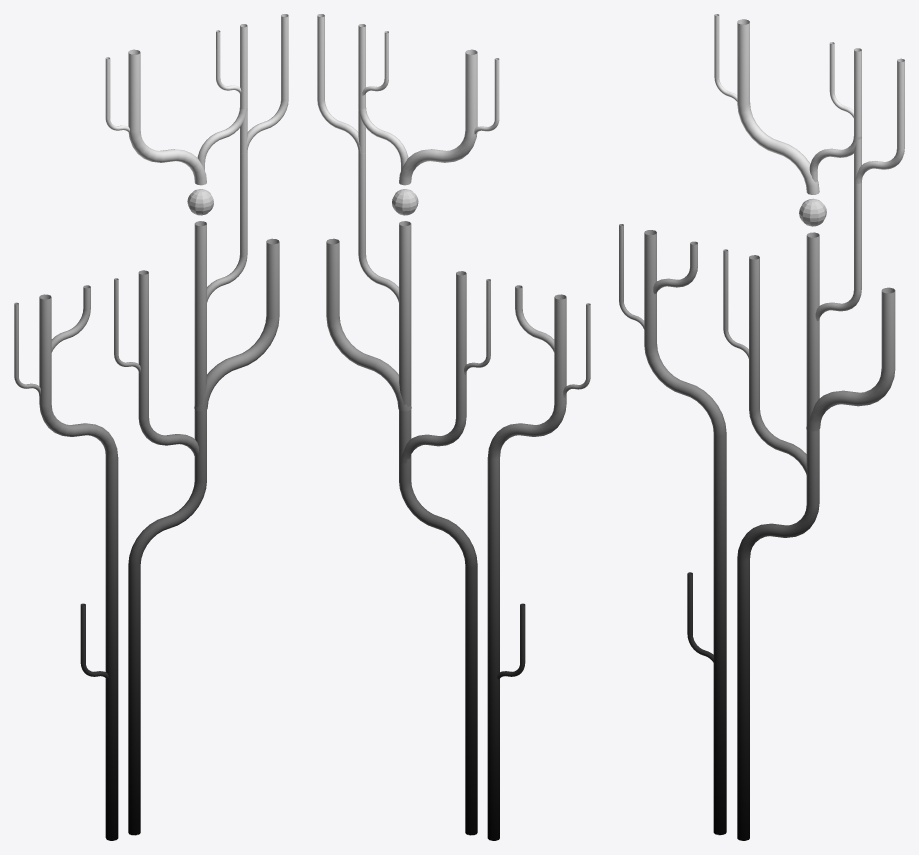
File: BG_Tree_V5.fbx
3 renders of one model, left to right at view 1: azimuth 30°, elevation 25°; view 2: azimuth 150°, elevation 25°; view 3: azimuth 330°, elevation 25°, orthographic. The views are drawn at different scales.
Visible parts, largest first — view 1: BG_Tree_V5; view 2: BG_Tree_V5; view 3: BG_Tree_V5.
Boxes of the visible parts, x1,y1,x2,y2 form: BG_Tree_V5: [14, 14, 288, 840]; BG_Tree_V5: [317, 14, 590, 840]; BG_Tree_V5: [619, 14, 904, 840].
Size of the model in its own units: 656 by 1792 by 53.12.
